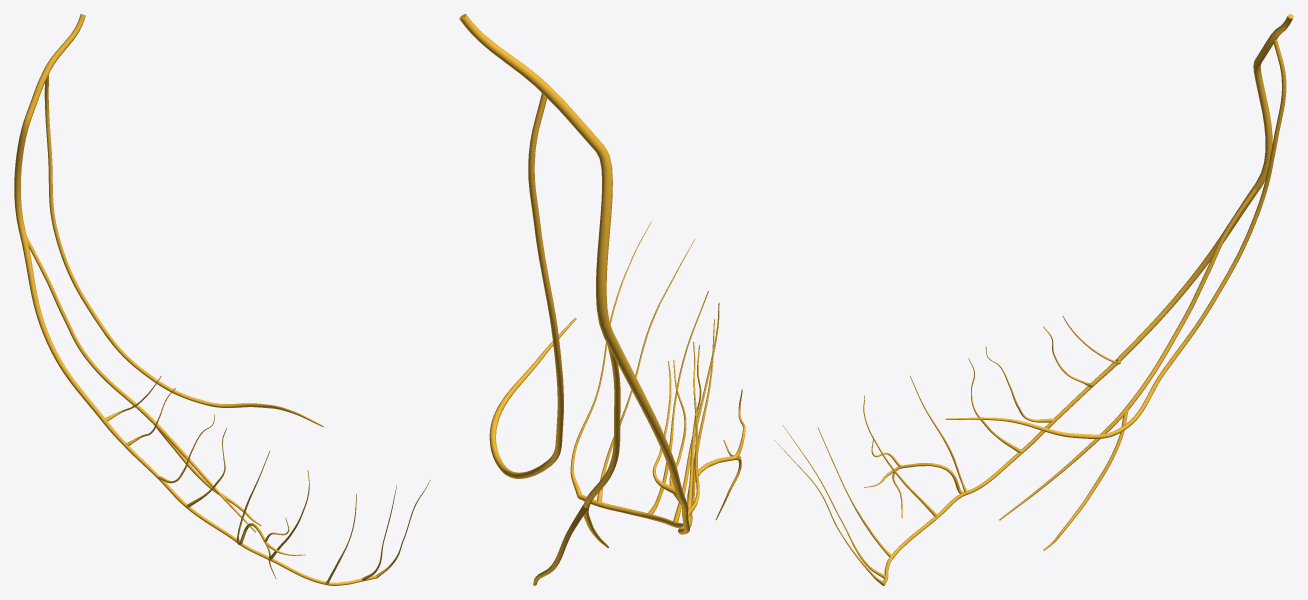
File: nervoso-posterior-division-of-mandibular-nerve-r.glb
3 views of the same model, side by side, from view 1: azimuth 30°, elevation 25°; view 2: azimuth 150°, elevation 25°; view 3: azimuth 270°, elevation 25° (orthographic). The views are drawn at different scales.
Visible parts, largest first — view 1: Inferior alveolar nerve.r, Lingual nerve.r, Nerve to mylohyoid muscle.r, Posterior division of mandibular nerve.r; view 2: Inferior alveolar nerve.r, Posterior division of mandibular nerve.r, Lingual nerve.r, Nerve to mylohyoid muscle.r, Mental nerve.r; view 3: Inferior alveolar nerve.r, Lingual nerve.r, Nerve to mylohyoid muscle.r, Posterior division of mandibular nerve.r.
Part boxes in pixels (x1,y1,x2,y2): Inferior alveolar nerve.r: (19, 230, 430, 585); Lingual nerve.r: (44, 74, 323, 427); Nerve to mylohyoid muscle.r: (26, 236, 261, 532); Posterior division of mandibular nerve.r: (14, 14, 85, 231); Inferior alveolar nerve.r: (570, 221, 734, 534); Posterior division of mandibular nerve.r: (459, 14, 613, 339); Lingual nerve.r: (489, 93, 576, 478); Nerve to mylohyoid muscle.r: (533, 344, 620, 585); Mental nerve.r: (715, 389, 745, 520); Inferior alveolar nerve.r: (774, 183, 1261, 585); Lingual nerve.r: (945, 39, 1286, 438); Nerve to mylohyoid muscle.r: (999, 189, 1256, 550); Posterior division of mandibular nerve.r: (1253, 14, 1293, 186).
Size of the model in its own units: 0.0356 by 0.0762 by 0.0701.
